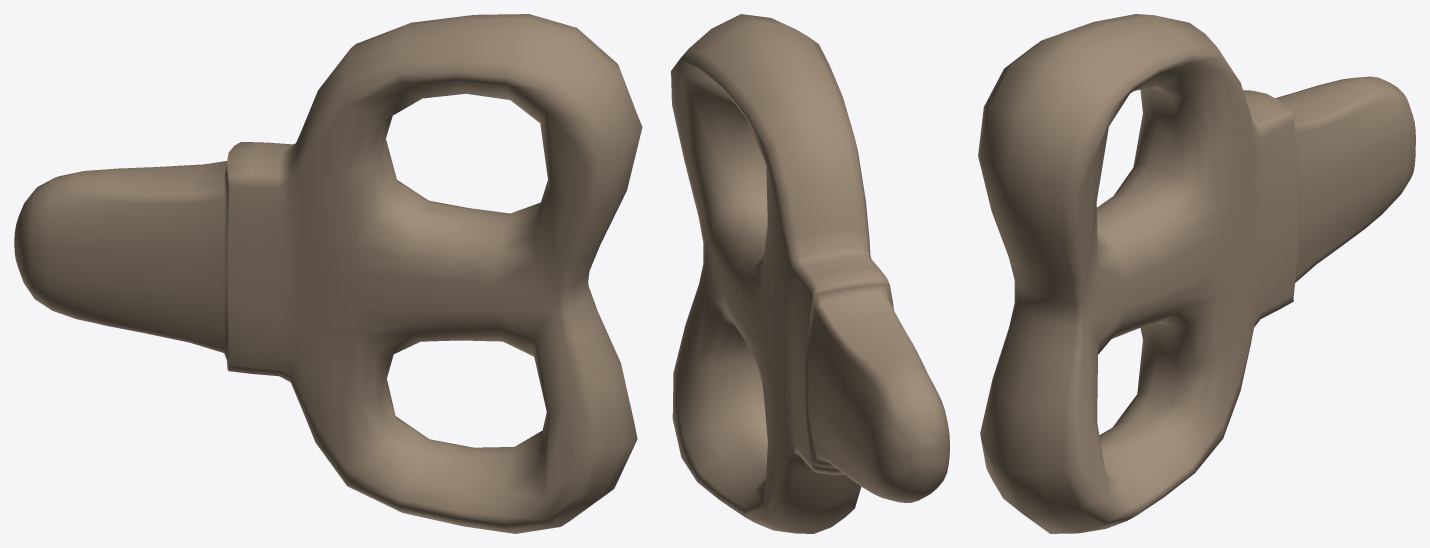
The model's file is dool_key.fbx.
3 views of the same model, side by side, from view 1: azimuth 30°, elevation 25°; view 2: azimuth 150°, elevation 25°; view 3: azimuth 270°, elevation 25° (orthographic). The views are drawn at different scales.
Visible parts, largest first — view 1: dool_key; view 2: dool_key; view 3: dool_key.
Boxes of the visible parts, x1,y1,x2,y2 form: dool_key: (14, 14, 642, 533); dool_key: (671, 14, 949, 533); dool_key: (978, 14, 1415, 533).
Size of the model in its own units: 8.03 by 8.78 by 7.06.
